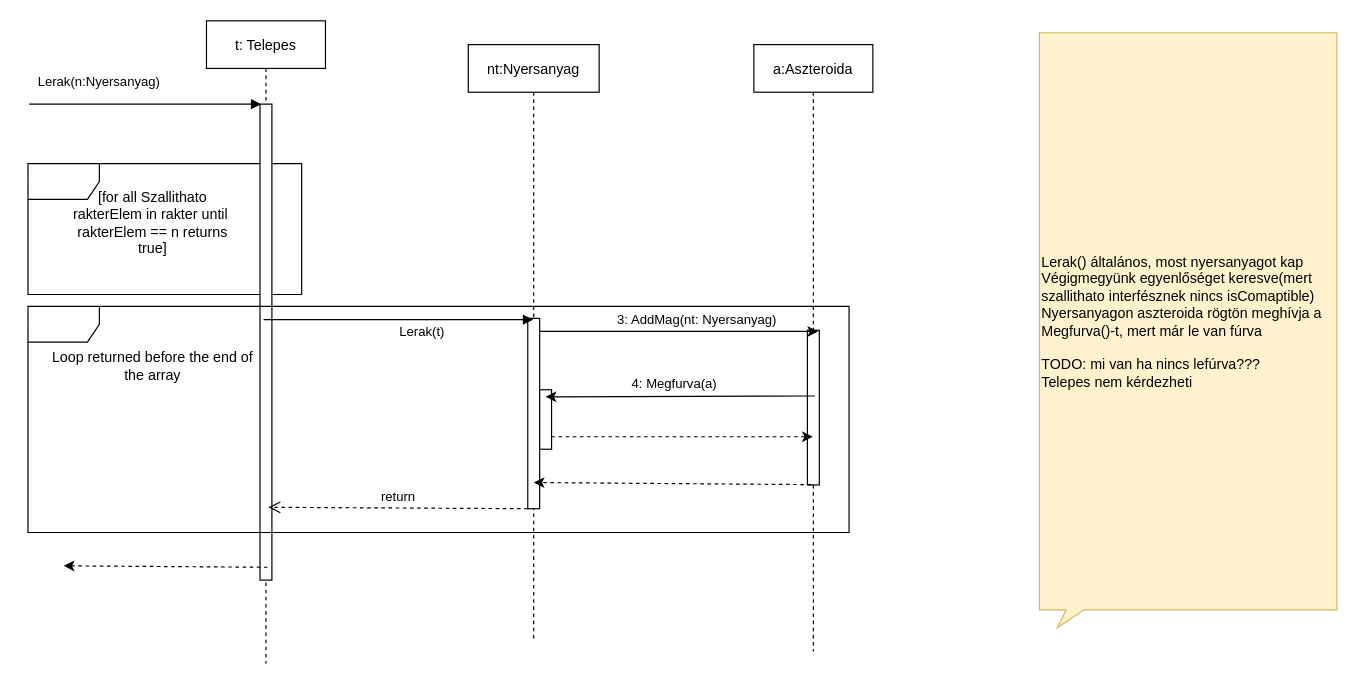
Image size: 1358x684. Some labels were removed from this diagram. Here are the shapes that lost their labels. From the top down, the box of each, then its label:
(27, 162, 302, 295): loop
(27, 305, 849, 533): opt
